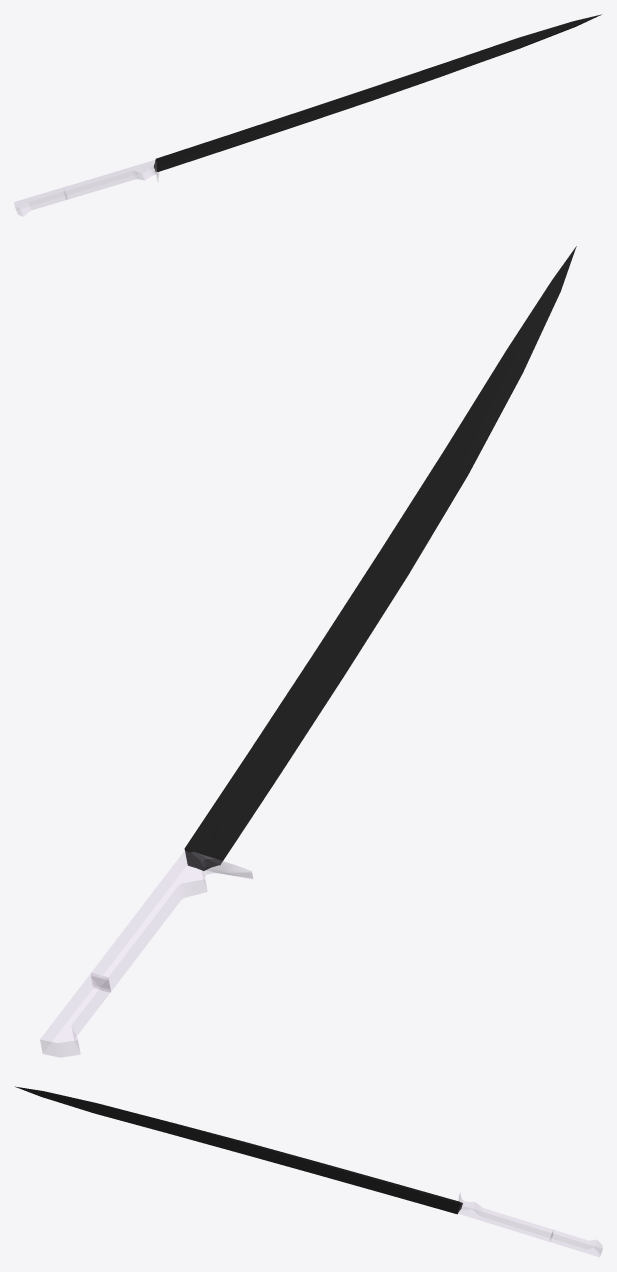
The model's file is zampakutou2.glb.
3 views of the same model, one above another, from view 1: azimuth 90°, elevation 25°; view 2: azimuth 150°, elevation 25°; view 3: azimuth 270°, elevation 25° (orthographic). The views are drawn at different scales.
Visible parts, largest first — view 1: Zangetsu; view 2: Zangetsu; view 3: Zangetsu.
Part boxes in pixels (bbox=[...]): Zangetsu: bbox=[14, 14, 601, 216]; Zangetsu: bbox=[40, 246, 576, 1057]; Zangetsu: bbox=[15, 1086, 602, 1257].
Bounding box in the file's own units: 0.1069 × 0.3089 × 0.8978.
